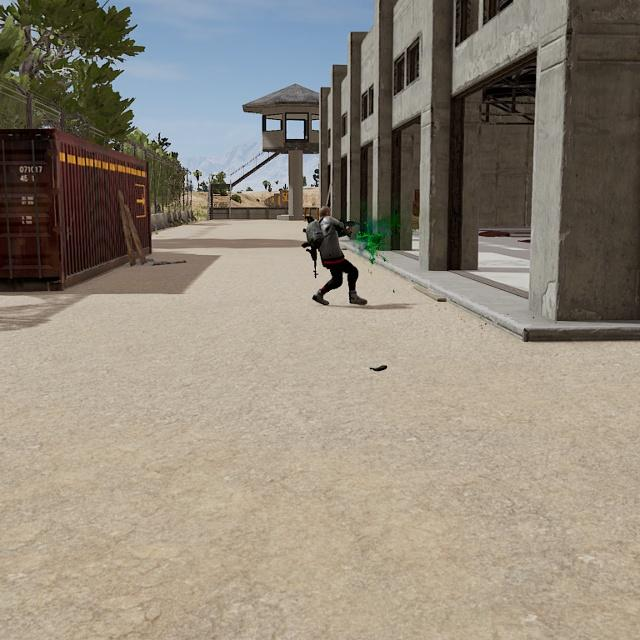head: (317, 204, 333, 222)
people: (310, 204, 368, 308)
